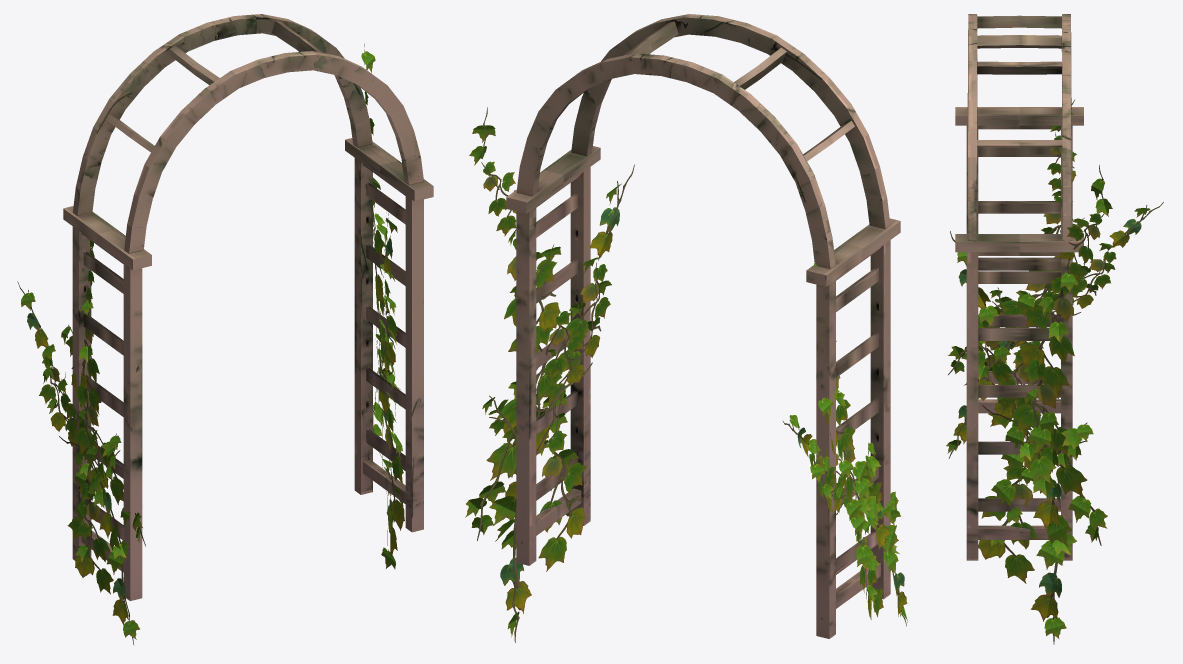
The model's file is P_Ivy01.obj.
The picture shows the model from 3 angles, left to right: view 1: azimuth 30°, elevation 25°; view 2: azimuth 150°, elevation 25°; view 3: azimuth 270°, elevation 25°; orthographic projection. The views are drawn at different scales.
Bounding box in the file's own units: 0.9382 × 1.52 × 0.5744.
Materials: 3 (3 with a texture image).
